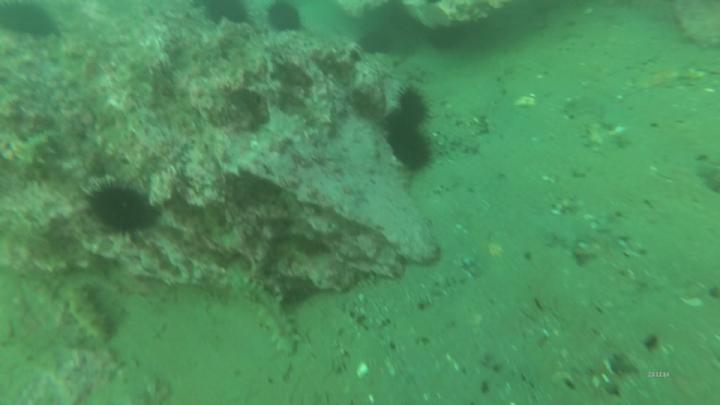echinus: (79, 173, 169, 249), (383, 121, 438, 174), (388, 86, 439, 128), (1, 1, 61, 36), (200, 2, 260, 28), (264, 4, 311, 36), (355, 29, 396, 57)
holothurian: (227, 267, 304, 358), (61, 280, 117, 347)
